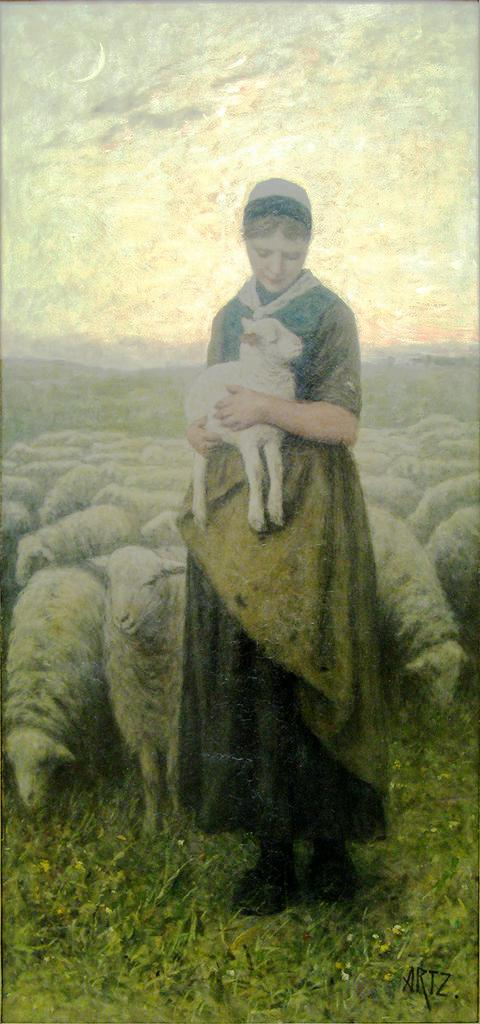Sheep: (80, 537, 193, 825), (0, 567, 108, 823), (182, 318, 304, 534), (348, 497, 465, 718), (15, 508, 135, 603), (395, 470, 480, 572), (415, 503, 480, 617), (91, 481, 186, 520), (38, 461, 101, 517), (355, 474, 425, 522), (3, 441, 84, 469), (136, 445, 195, 472)
